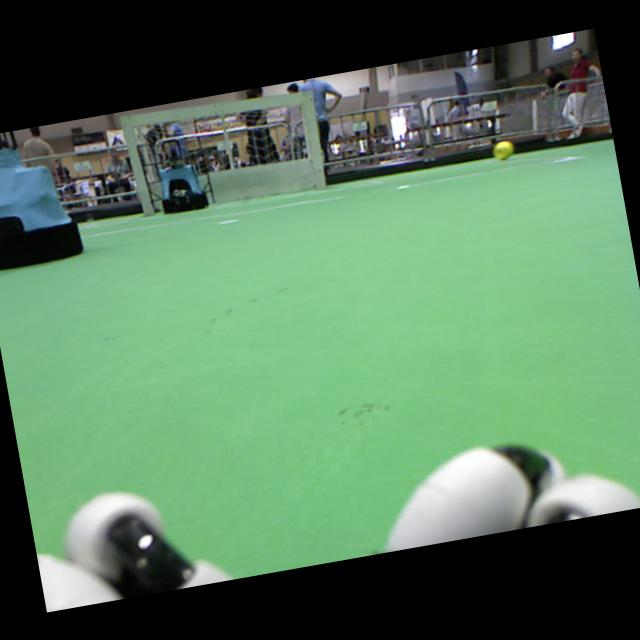ball: (493, 140, 511, 158)
goal: (121, 115, 153, 217), (300, 90, 327, 189)
